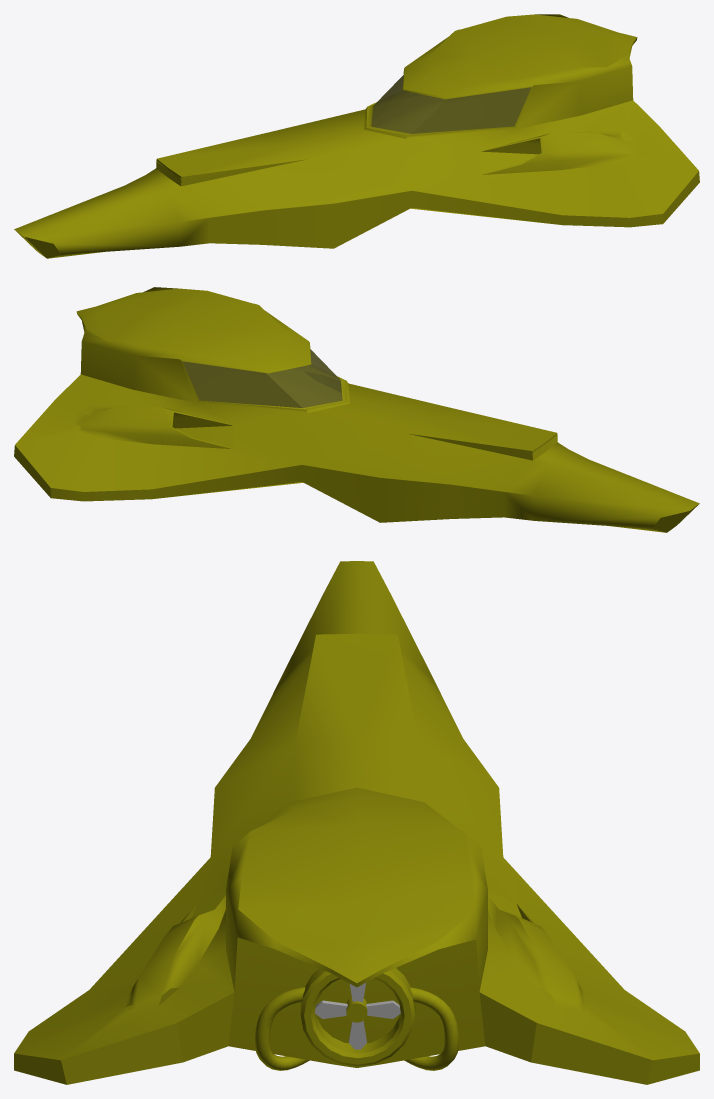
File: Nav_Yellow.fbx
3 views of the same model, one above another, from view 1: azimuth 30°, elevation 25°; view 2: azimuth 150°, elevation 25°; view 3: azimuth 270°, elevation 25° (orthographic). The views are drawn at different scales.
Visible parts, largest first — view 1: Nav_Yellow; view 2: Nav_Yellow; view 3: Nav_Yellow.
Boxes of the visible parts, <box> form: Nav_Yellow: <box>14,14,699,258</box>; Nav_Yellow: <box>14,287,699,532</box>; Nav_Yellow: <box>14,561,699,1084</box>.
Size of the model in its own units: 6.88 by 1.24 by 4.02.
